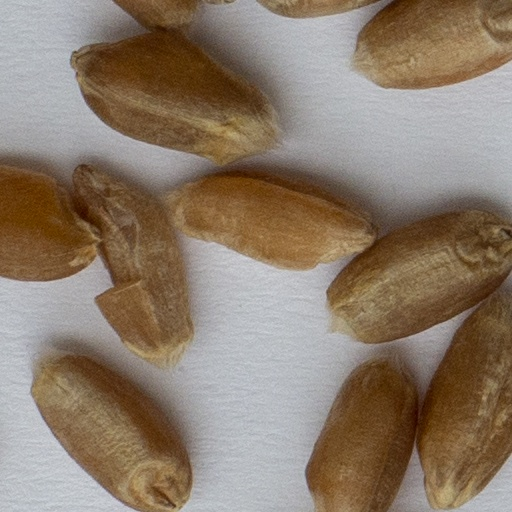Wheat-grain-damaged-poly: (71, 163, 195, 367)
